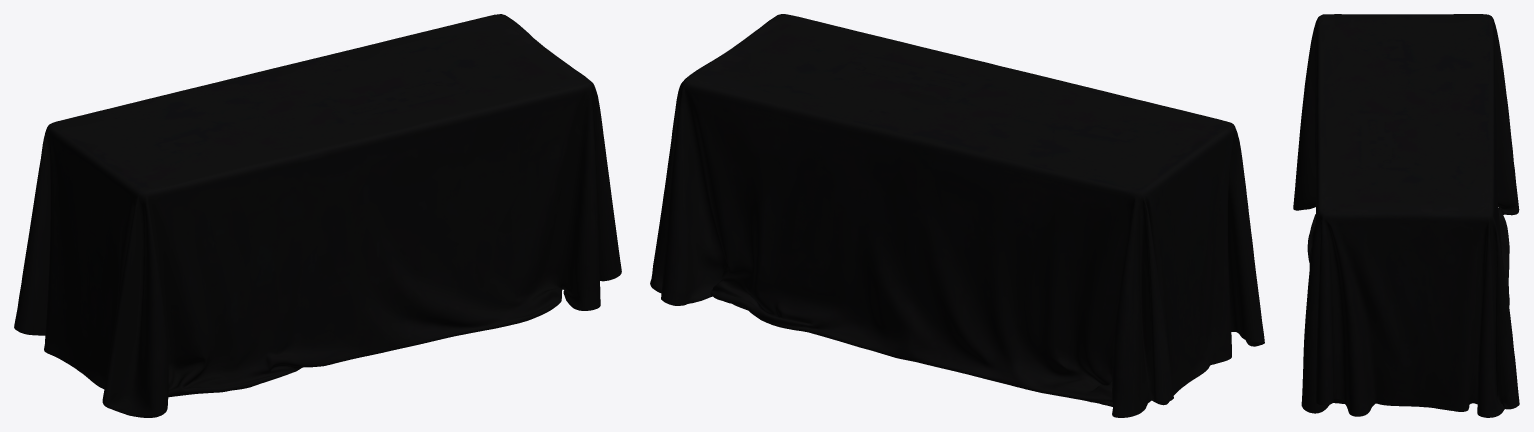
3 renders of one model, left to right at view 1: azimuth 30°, elevation 25°; view 2: azimuth 150°, elevation 25°; view 3: azimuth 270°, elevation 25°, orthographic. The views are drawn at different scales.
Visible parts, largest first — view 1: model; view 2: model; view 3: model.
Boxes of the visible parts, <box> form: model: <box>14,14,621,417</box>; model: <box>650,14,1264,417</box>; model: <box>1293,14,1519,417</box>.
Size of the model in its own units: 1.83 by 0.74 by 0.76.
Materials: 1 (1 with a texture image).
